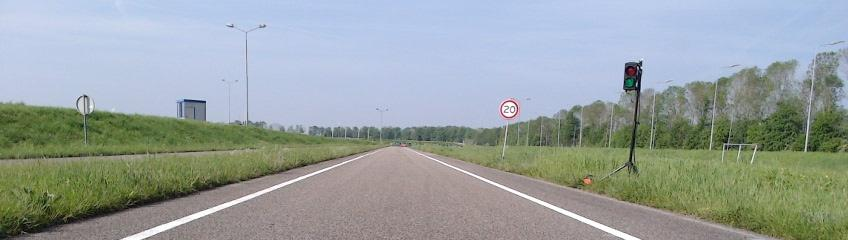Speed-limit-20km-h-: (500, 101, 518, 118)
TrafficLight-green: (624, 62, 638, 90)
